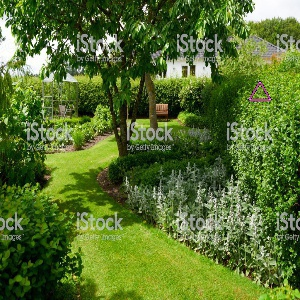triangle: (245, 77, 274, 104)
